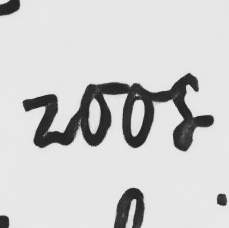o: (119, 80, 157, 150), (75, 82, 114, 147)
s: (168, 70, 201, 154)
z: (19, 92, 63, 150)
